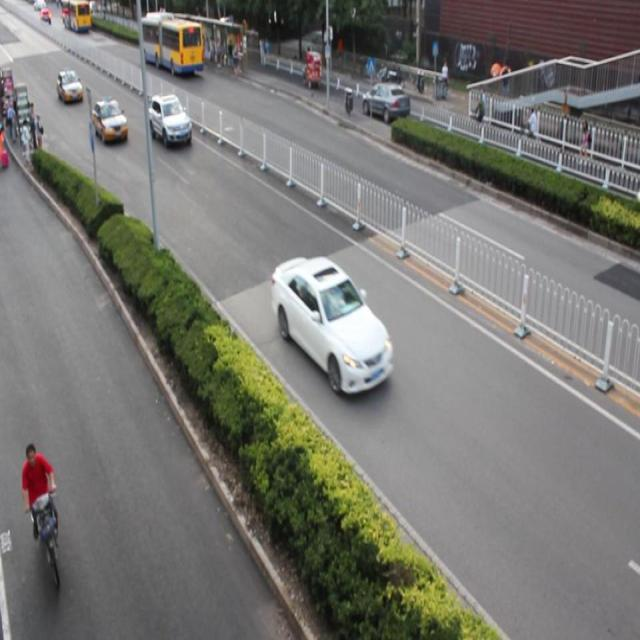car: (269, 253, 392, 394), (148, 92, 191, 150), (360, 81, 411, 123), (93, 96, 127, 141), (57, 69, 83, 105)
van: (139, 9, 202, 74)
